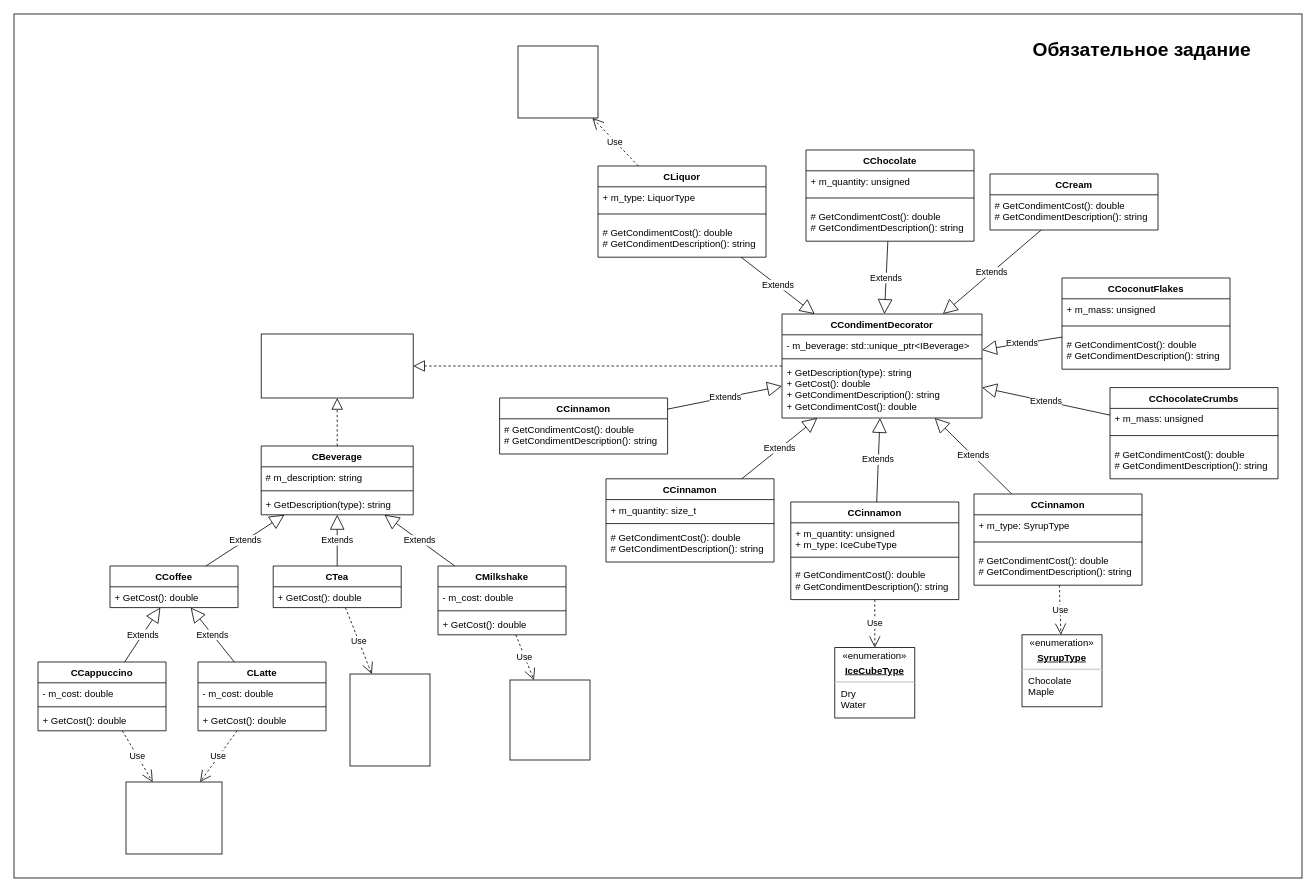
Some shapes in this 1316 by 892 pixel diagram are drawn without their labels. The centre of each missing label's shape, as x and y in pixels:
<<Interface>> IBeverage + GetDescription(): std::string + GetCost(): double: the point at 336,365
«enumeration» CoffeSize Standart Double: the point at 173,817
«enumeration» LiquorType Nut Chocolate: the point at 557,81
«enumeration» MilkshakeSize Small Medium Large: the point at 549,719
«enumeration» TeaType Green White Black Yellow: the point at 389,719
